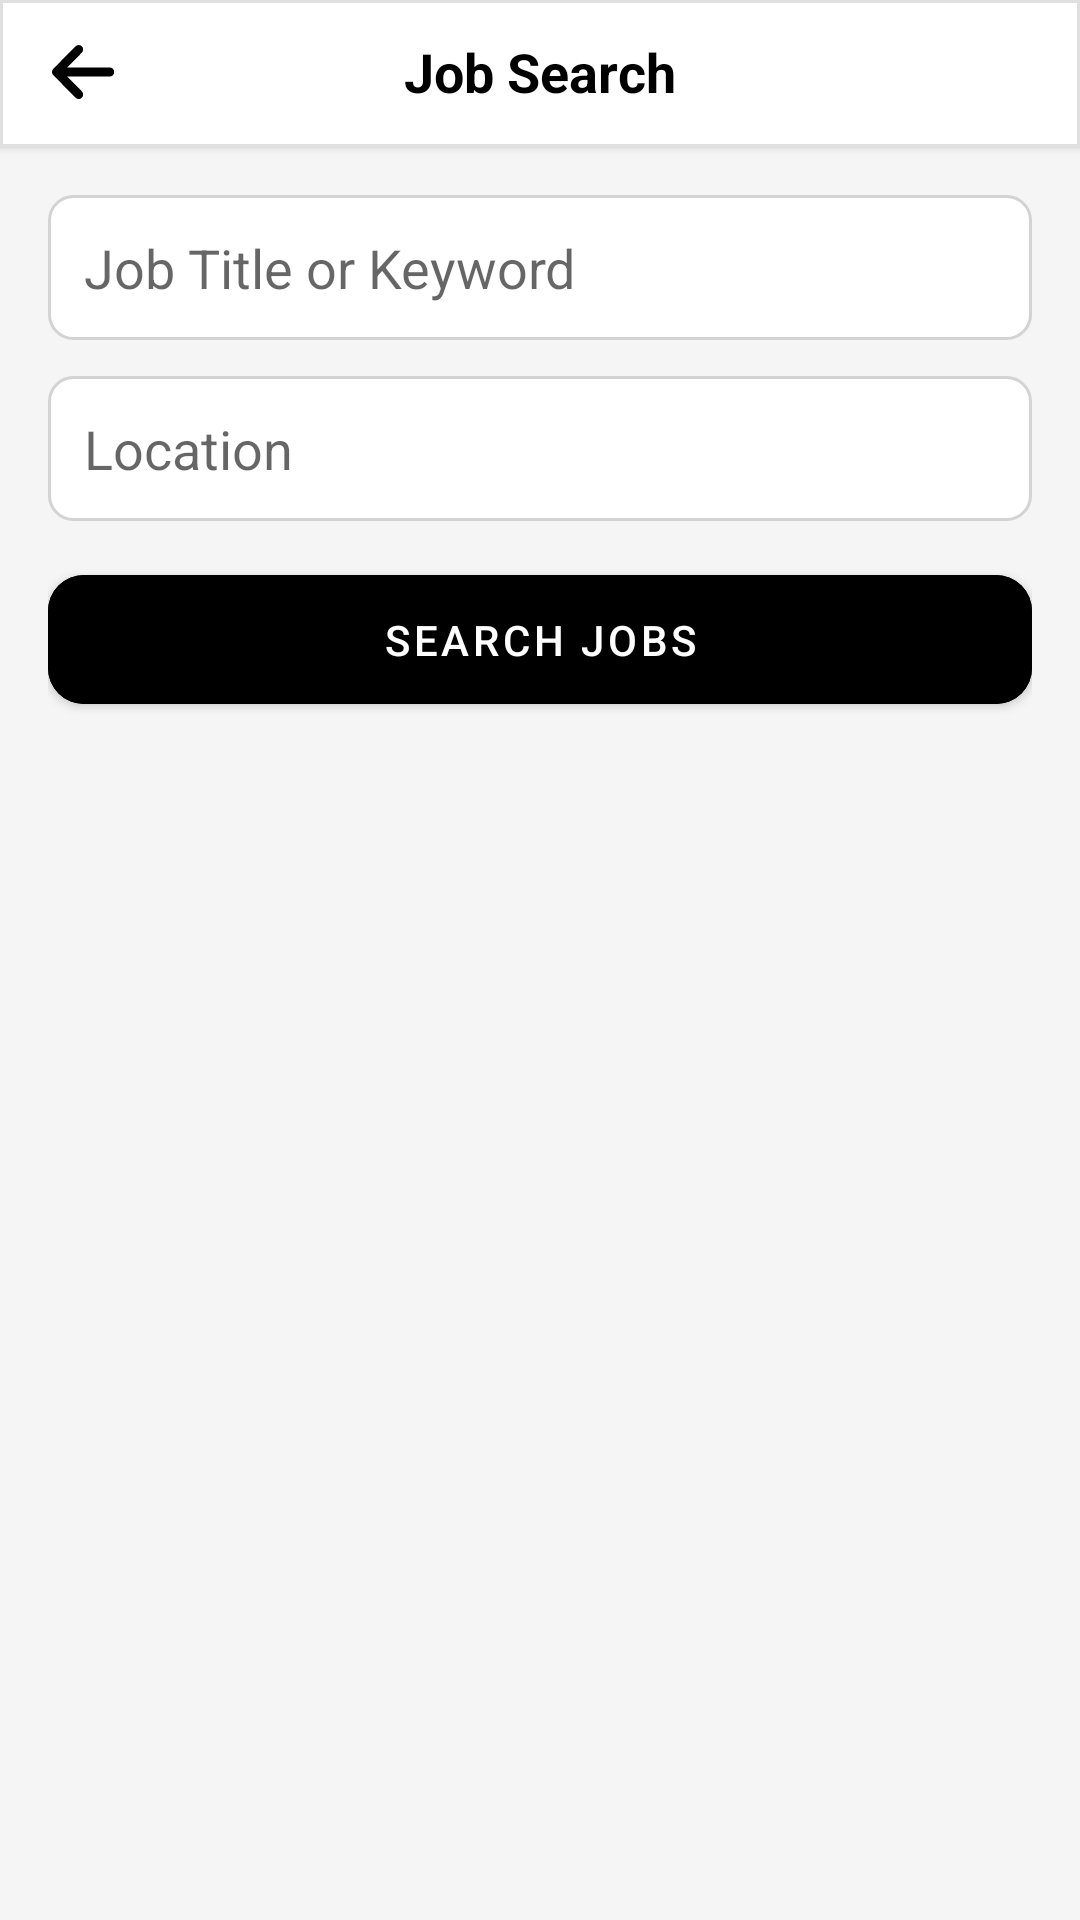

Where to tap for icons on this 1080*1920 app screen, as point (x, y):
longarrow: point (83, 72)
